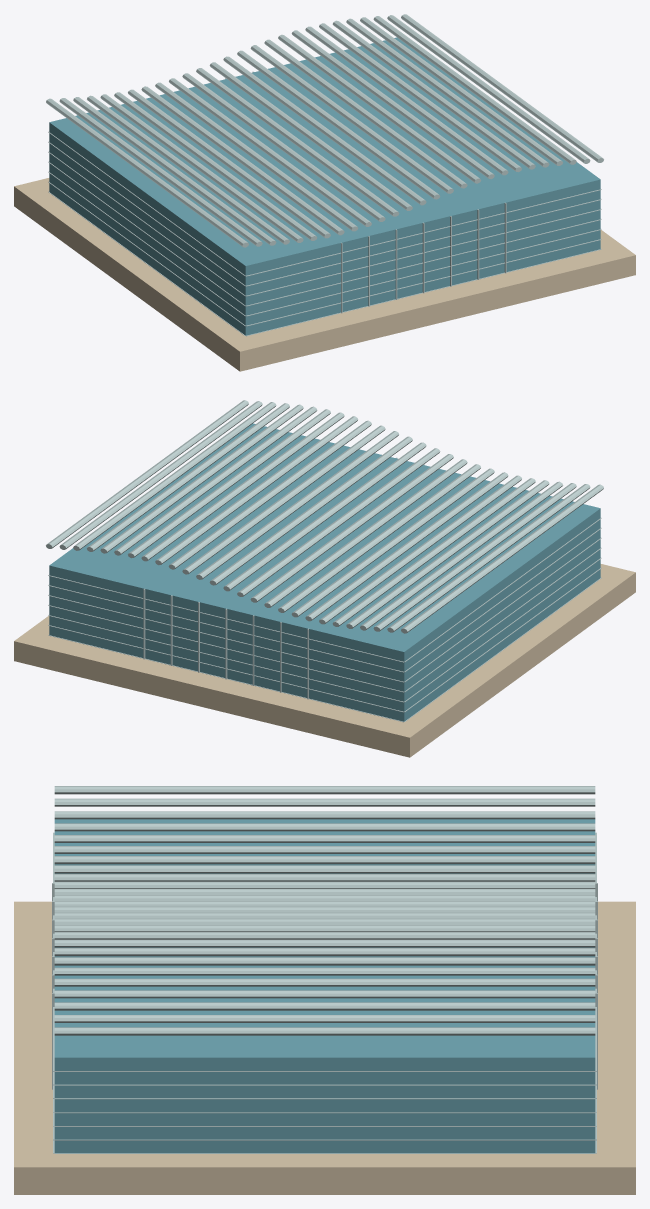
Rendered from ocean-aquarium.glb.
3 renders of one model, top to bottom at view 1: azimuth 30°, elevation 25°; view 2: azimuth 150°, elevation 25°; view 3: azimuth 270°, elevation 25°, orthographic. The views are drawn at different scales.
Parts seen in each view (by area): view 1: ocean-aquarium; view 2: ocean-aquarium; view 3: ocean-aquarium.
Boxes of the visible parts, x1,y1,x2,y2 form: ocean-aquarium: [14, 14, 635, 371]; ocean-aquarium: [14, 400, 635, 757]; ocean-aquarium: [14, 786, 635, 1194].
Size of the model in its own units: 61.01 by 18 by 60.32.
